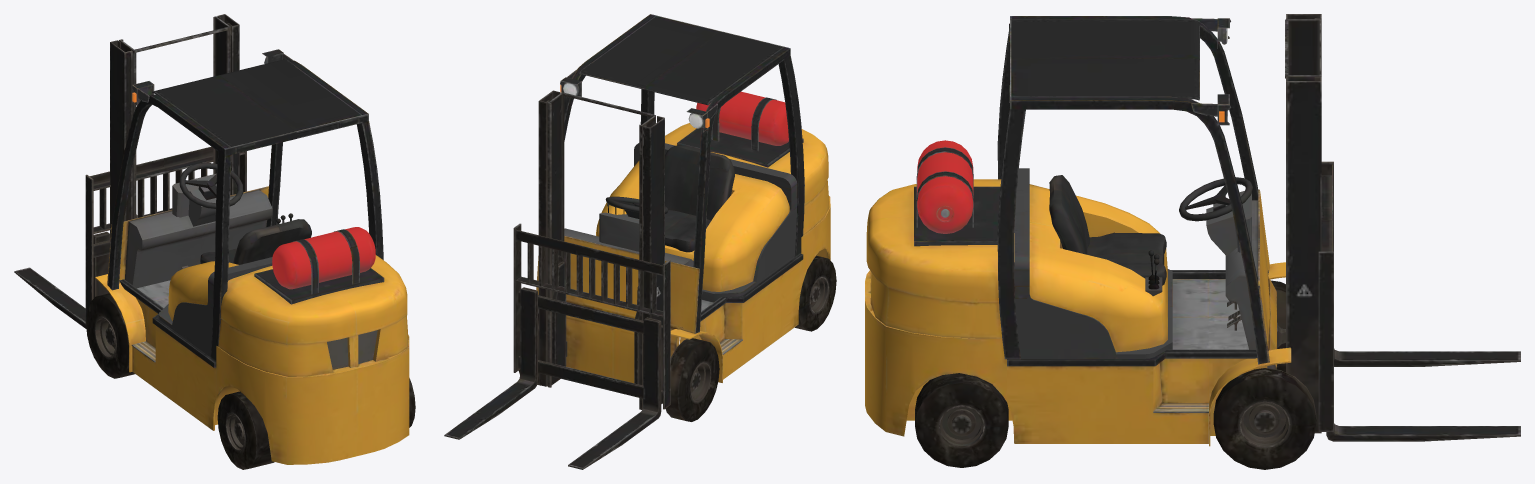
The model's file is forklift_truck.glb.
The picture shows the model from 3 angles, left to right: view 1: azimuth 30°, elevation 25°; view 2: azimuth 150°, elevation 25°; view 3: azimuth 270°, elevation 25°; orthographic projection. The views are drawn at different scales.
Parts seen in each view (by area): view 1: forklift_body_A_forkA:forklift_body_ASG1_0, forklift_body_B_lambert3_0, forklift_body_A_forkA:initialShadingGroup1_0; view 2: forklift_body_B_lambert3_0, forklift_body_A_forkA:forklift_body_ASG1_0, forklift_body_A_forkA:initialShadingGroup1_0; view 3: forklift_body_A_forkA:forklift_body_ASG1_0, forklift_body_B_lambert3_0, forklift_body_A_forkA:initialShadingGroup1_0.
Boxes of the visible parts, bbox=[...] form: forklift_body_A_forkA:forklift_body_ASG1_0: bbox=[95, 59, 409, 464]; forklift_body_B_lambert3_0: bbox=[14, 14, 415, 469]; forklift_body_A_forkA:initialShadingGroup1_0: bbox=[131, 49, 384, 304]; forklift_body_B_lambert3_0: bbox=[444, 90, 836, 469]; forklift_body_A_forkA:forklift_body_ASG1_0: bbox=[564, 14, 830, 382]; forklift_body_A_forkA:initialShadingGroup1_0: bbox=[560, 69, 803, 167]; forklift_body_A_forkA:forklift_body_ASG1_0: bbox=[865, 16, 1291, 446]; forklift_body_B_lambert3_0: bbox=[915, 14, 1520, 469]; forklift_body_A_forkA:initialShadingGroup1_0: bbox=[914, 18, 1230, 246].
Bounding box in the file's own units: 156 × 268 × 426.
3 materials, 3 textured.
